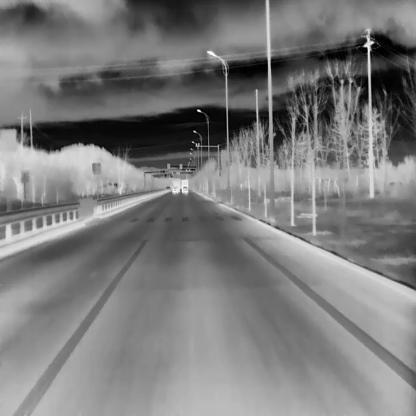car: (182, 180, 188, 190), (173, 180, 179, 190), (182, 185, 188, 193), (172, 187, 178, 192)
